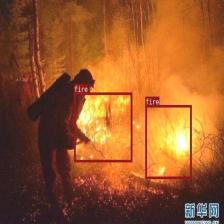fire: (74, 92, 132, 162), (145, 105, 191, 178)
